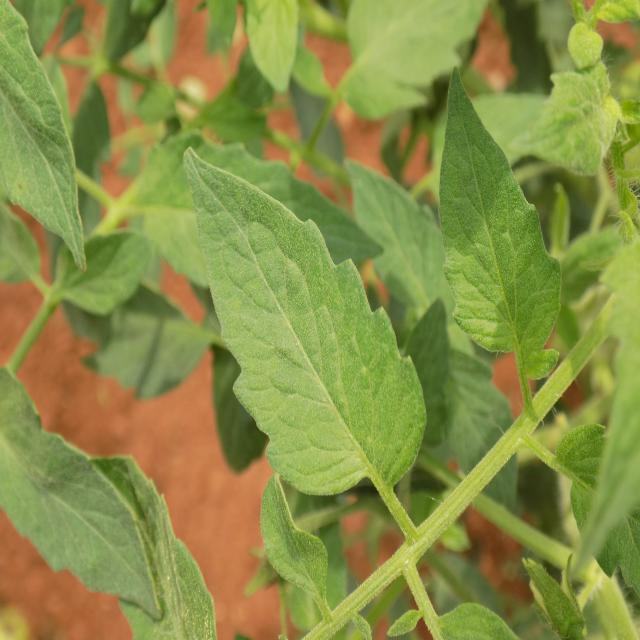tomato_healthy: (183, 152, 421, 492), (333, 149, 495, 396), (438, 59, 556, 378)
